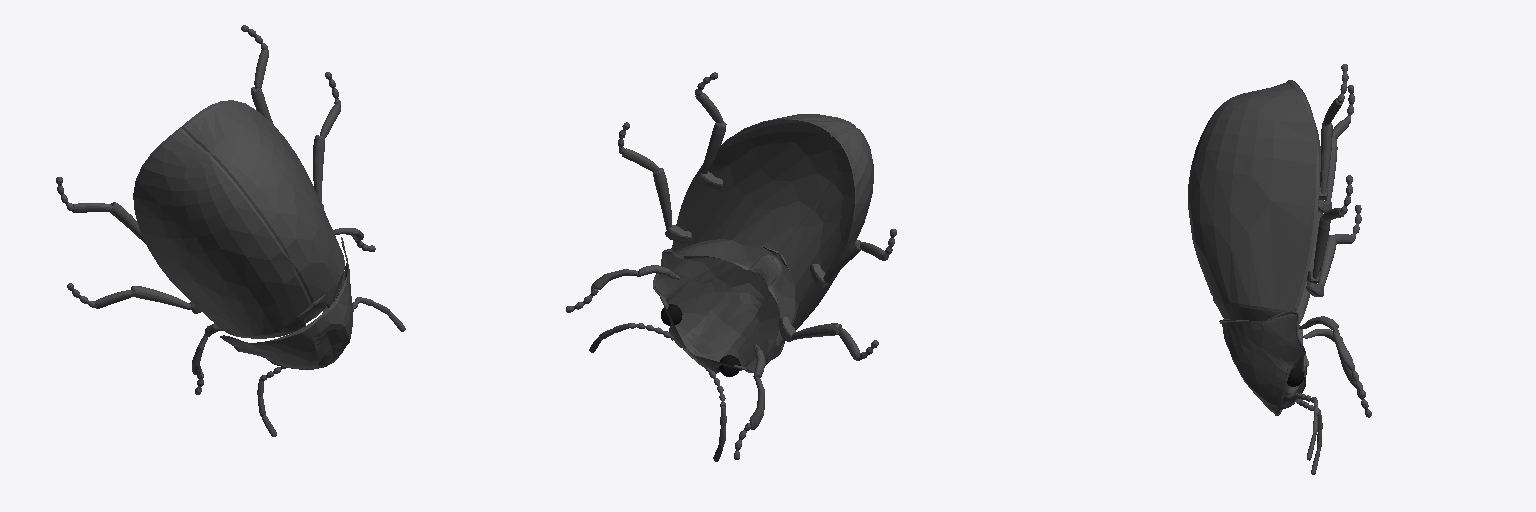
File: bug.obj
3 views of the same model, side by side, from view 1: azimuth 30°, elevation 25°; view 2: azimuth 150°, elevation 25°; view 3: azimuth 270°, elevation 25° (orthographic).
Visible parts, largest first — view 1: Kaefer01; view 2: Kaefer01; view 3: Kaefer01.
Part boxes in pixels (x1,y1,x2,y2): Kaefer01: (56, 25, 405, 436); Kaefer01: (566, 72, 896, 461); Kaefer01: (1188, 64, 1371, 474).
Size of the model in its own units: 30.05 by 35.4 by 14.65.